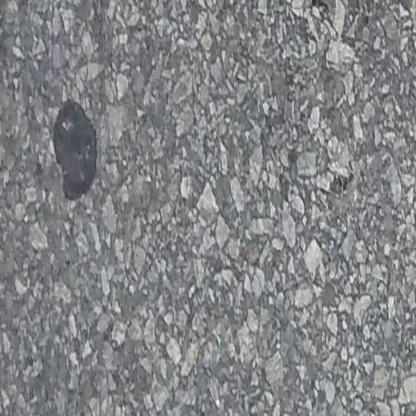Cracks: (344, 0, 416, 16)
